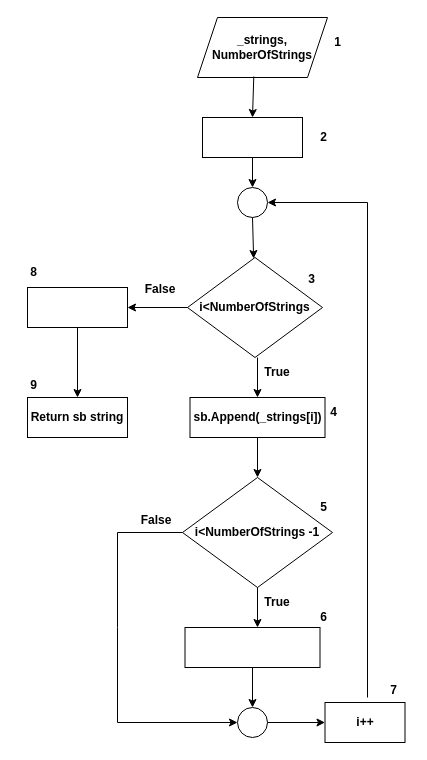
Some shapes in this 427 by 760 pixel diagram are drawn without their labels. Each missing label, with the centre of its shape:
i = 0, sb = '{': (252,137)
sb.Append(","): (252,647)
sb.Append("}"): (77,307)
